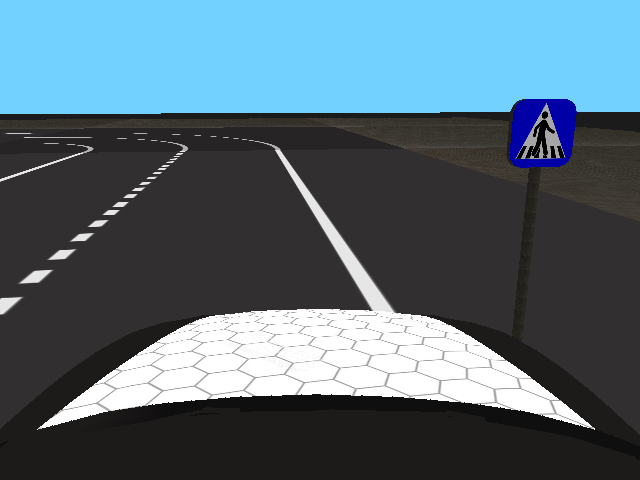pedestrian_cross: (507, 99, 577, 167)
